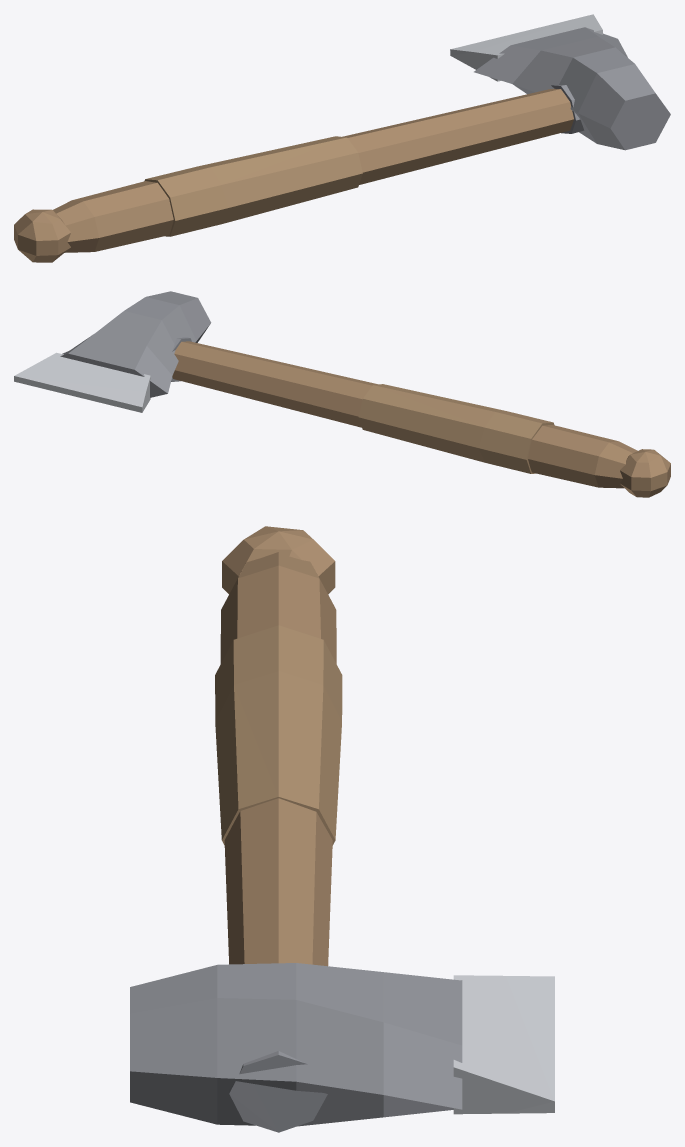
File: 16-Crafting_hacha_hierro.glb
3 renders of one model, top to bottom at view 1: azimuth 30°, elevation 25°; view 2: azimuth 150°, elevation 25°; view 3: azimuth 270°, elevation 25°, orthographic. The views are drawn at different scales.
Visible parts, largest first — view 1: SM_HachaHierro_M_HachaHierro_Madera, SM_HachaHierro_M_HachaHierro_Hierro, SM_HachaHierro_M_HachaHierro_Cuero, SM_HachaHierro_M_HachaHierro_Acero; view 2: SM_HachaHierro_M_HachaHierro_Madera, SM_HachaHierro_M_HachaHierro_Cuero, SM_HachaHierro_M_HachaHierro_Hierro, SM_HachaHierro_M_HachaHierro_Acero; view 3: SM_HachaHierro_M_HachaHierro_Hierro, SM_HachaHierro_M_HachaHierro_Madera, SM_HachaHierro_M_HachaHierro_Cuero, SM_HachaHierro_M_HachaHierro_Acero.
Boxes of the visible parts, box(x1,y1,x2,y2) form: SM_HachaHierro_M_HachaHierro_Madera: box(14, 88, 573, 262); SM_HachaHierro_M_HachaHierro_Hierro: box(474, 27, 670, 150); SM_HachaHierro_M_HachaHierro_Cuero: box(144, 136, 362, 236); SM_HachaHierro_M_HachaHierro_Acero: box(450, 14, 602, 81); SM_HachaHierro_M_HachaHierro_Madera: box(172, 341, 670, 497); SM_HachaHierro_M_HachaHierro_Cuero: box(358, 384, 554, 473); SM_HachaHierro_M_HachaHierro_Hierro: box(60, 291, 211, 397); SM_HachaHierro_M_HachaHierro_Acero: box(14, 352, 150, 412); SM_HachaHierro_M_HachaHierro_Hierro: box(130, 963, 462, 1132); SM_HachaHierro_M_HachaHierro_Madera: box(220, 526, 336, 966); SM_HachaHierro_M_HachaHierro_Cuero: box(215, 625, 342, 845); SM_HachaHierro_M_HachaHierro_Acero: box(453, 975, 554, 1114).
Size of the model in its own units: 0.772 by 0.0814 by 0.243.
